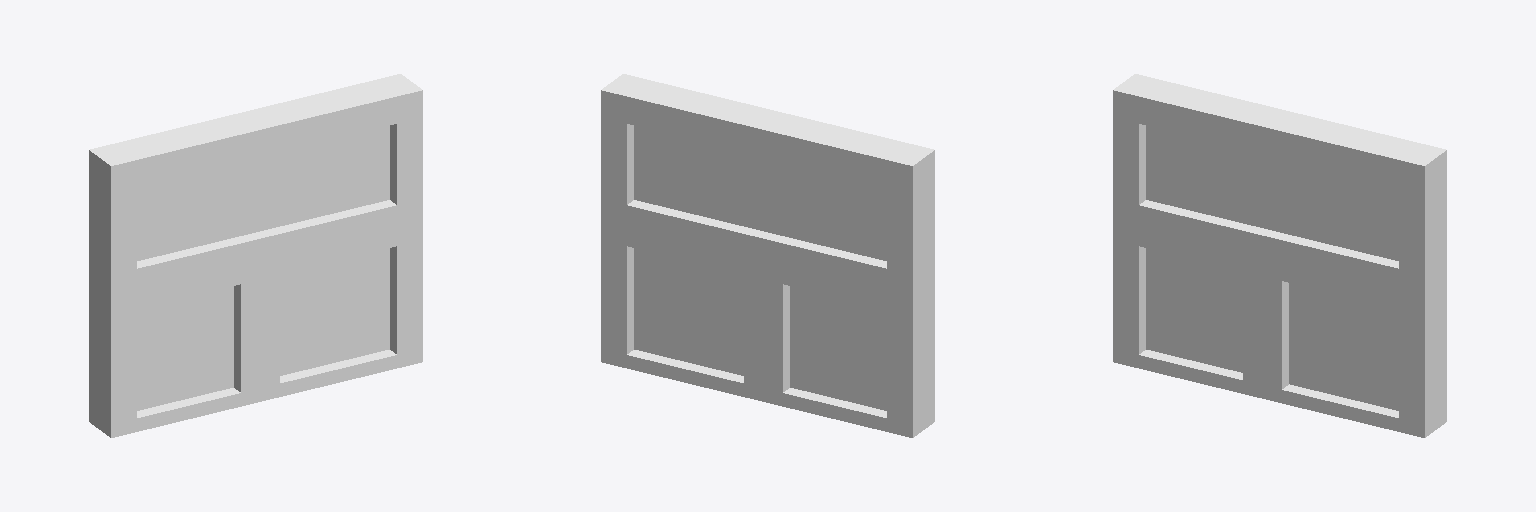
Rendered from window.obj.
3 renders of one model, left to right at view 1: azimuth 30°, elevation 25°; view 2: azimuth 150°, elevation 25°; view 3: azimuth 330°, elevation 25°, orthographic.
Parts seen in each view (by area): view 1: object 1; view 2: object 1; view 3: object 1.
Part boxes in pixels (x1,y1,x2,y2): object 1: (89,74,422,437); object 1: (601,74,934,437); object 1: (1113,74,1446,437).
Size of the model in its own units: 2.4 by 2 by 0.3.